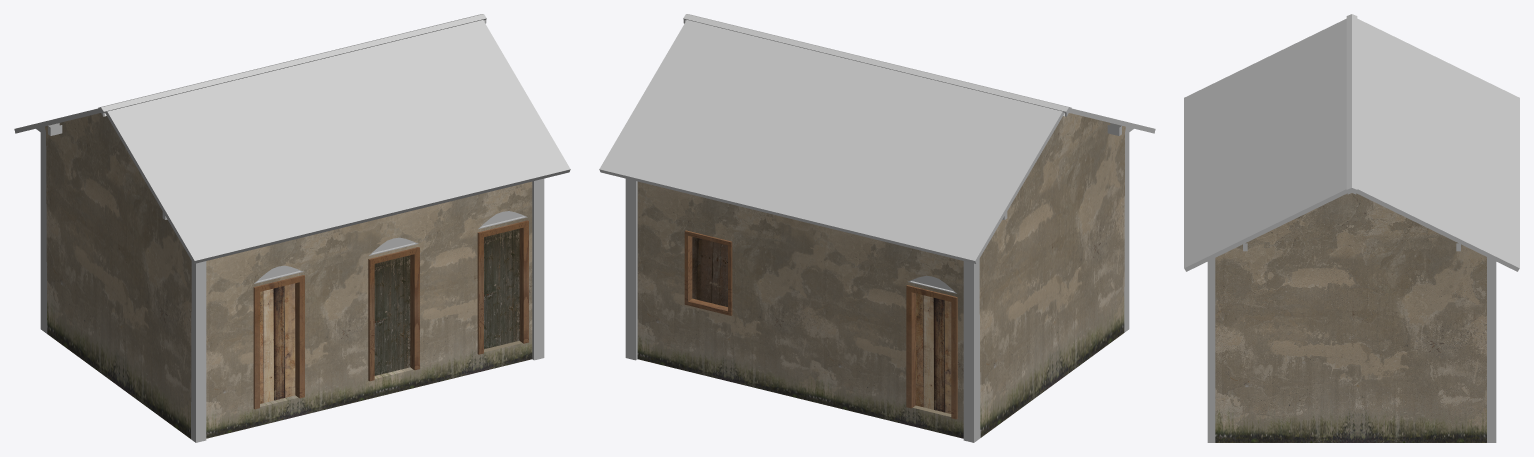
The model's file is casaPortoCimento_1.fbx.
3 renders of one model, left to right at view 1: azimuth 30°, elevation 25°; view 2: azimuth 150°, elevation 25°; view 3: azimuth 270°, elevation 25°, orthographic. The views are drawn at different scales.
Visible parts, largest first — view 1: casa1_LOD0, telhado; view 2: casa1_LOD0, telhado; view 3: casa1_LOD0, telhado.
Boxes of the visible parts, <box> form: casa1_LOD0: <box>36,14,544,442</box>; telhado: <box>14,20,570,263</box>; casa1_LOD0: <box>625,14,1133,442</box>; telhado: <box>599,20,1155,263</box>; casa1_LOD0: <box>1207,14,1496,442</box>; telhado: <box>1184,18,1519,271</box>.
Size of what is drawn, in the model's own units: 660 by 466 by 539.
